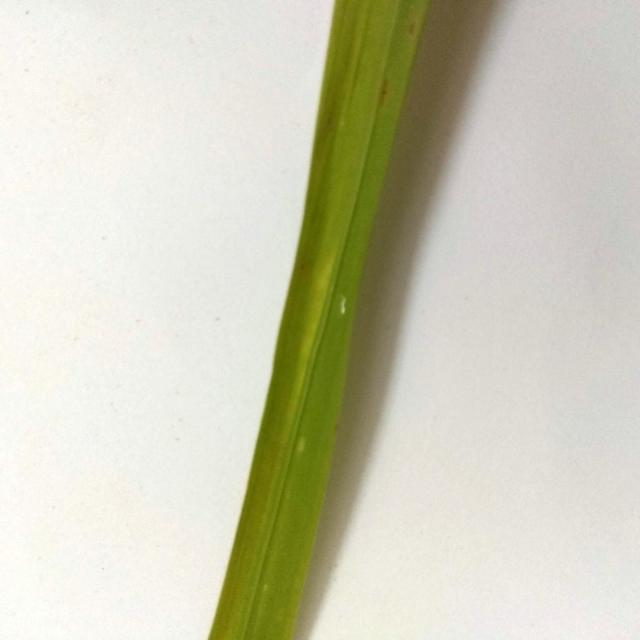Brown spot: (205, 0, 434, 640)
